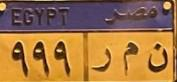9: (6, 39, 30, 76), (54, 36, 72, 79), (34, 36, 50, 76)
ر: (91, 39, 112, 78)
م: (115, 36, 139, 77)
ن: (141, 34, 168, 82)
